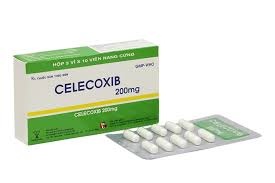Celecoxip: (54, 74, 121, 94)
